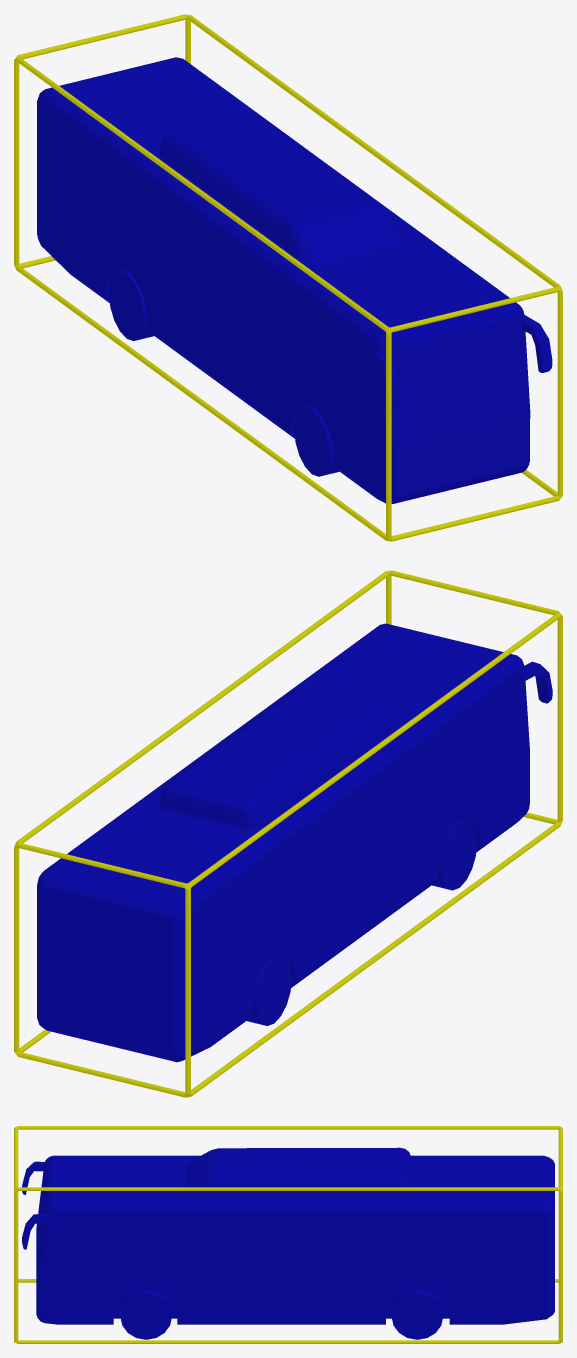
Rendered from bus.glb.
3 views of the same model, one above another, from view 1: azimuth 30°, elevation 25°; view 2: azimuth 150°, elevation 25°; view 3: azimuth 270°, elevation 25° (orthographic). The views are drawn at different scales.
Parts seen in each view (by area): view 1: bus, bus_Cube_Line; view 2: bus, bus_Cube_Line; view 3: bus, bus_Cube_Line.
Boxes of the visible parts, x1,y1,x2,y2 form: bus: (37,57,552,503); bus_Cube_Line: (14,14,562,541); bus: (37,623,552,1062); bus_Cube_Line: (14,570,562,1097); bus: (22,1147,554,1339); bus_Cube_Line: (14,1126,562,1343).
Bounding box in the file's own units: 2.97 × 3.45 × 10.95.
